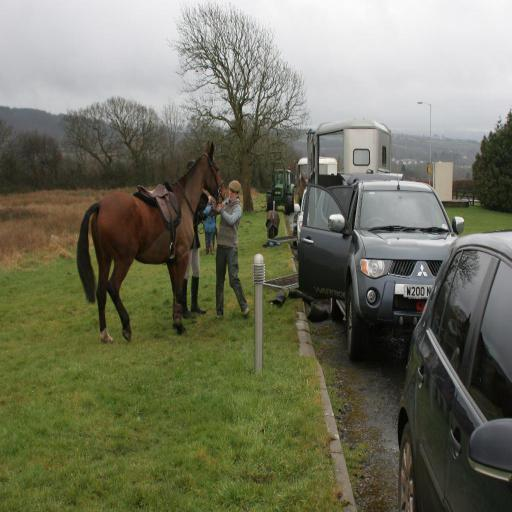horse: (78, 140, 226, 346)
